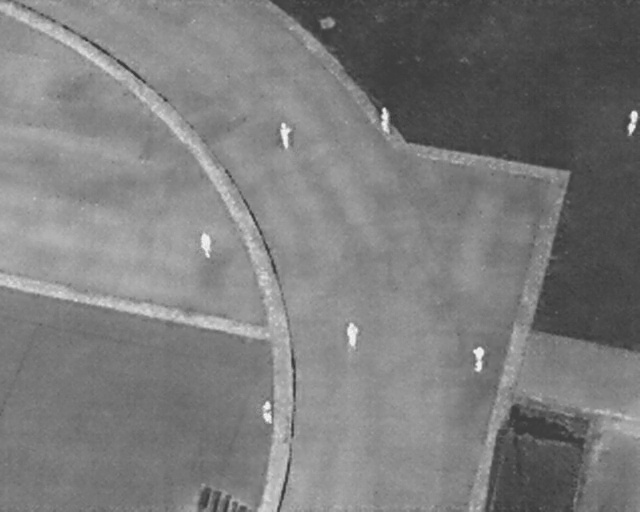Person: (275, 119, 296, 151), (196, 231, 217, 260), (258, 399, 276, 425), (379, 104, 393, 136), (345, 322, 360, 350), (472, 344, 485, 375), (629, 108, 639, 123), (628, 122, 635, 138)
